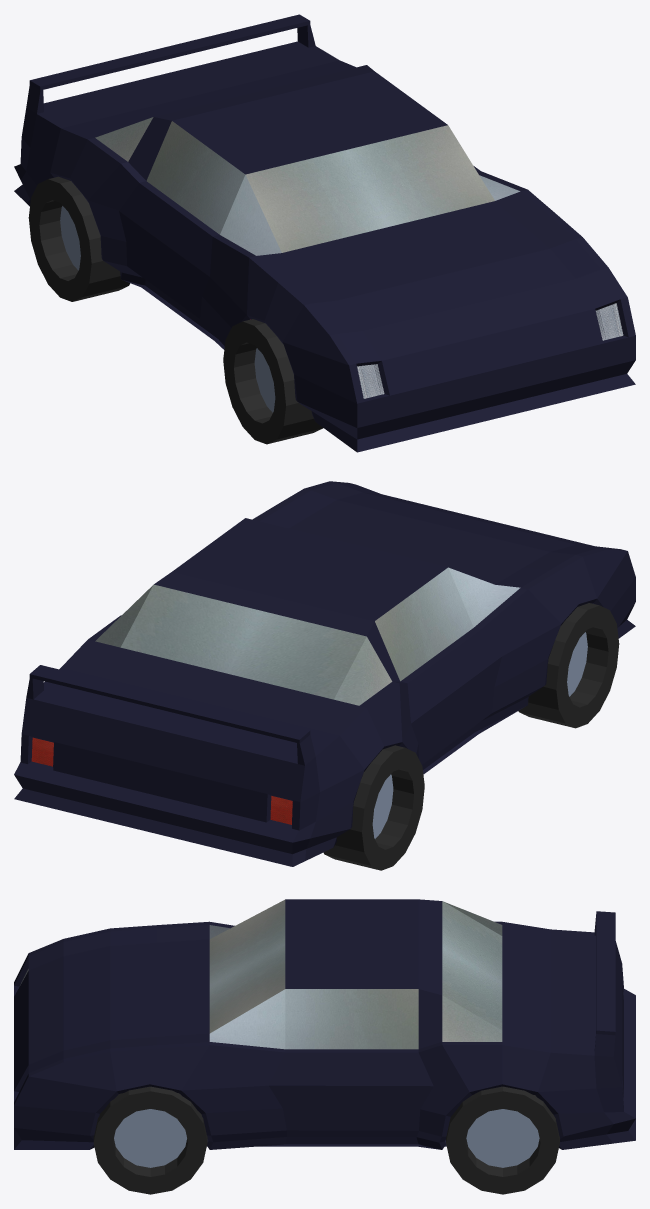
The model's file is carNavy.fbx.
3 renders of one model, top to bottom at view 1: azimuth 30°, elevation 25°; view 2: azimuth 150°, elevation 25°; view 3: azimuth 270°, elevation 25°, orthographic. The views are drawn at different scales.
Visible parts, largest first — view 1: carNavy; view 2: carNavy; view 3: carNavy.
Part boxes in pixels (x1,y1,x2,y2): carNavy: (14,14,635,452); carNavy: (14,481,635,870); carNavy: (14,899,635,1194).
Size of the model in its own units: 122 by 68.42 by 218.
Materials: 3 (3 with a texture image).
